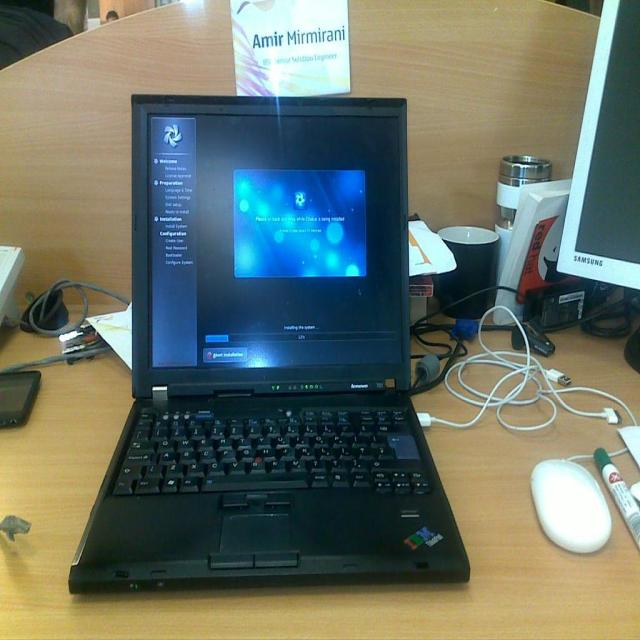Computer-mouse: (529, 454, 613, 552)
